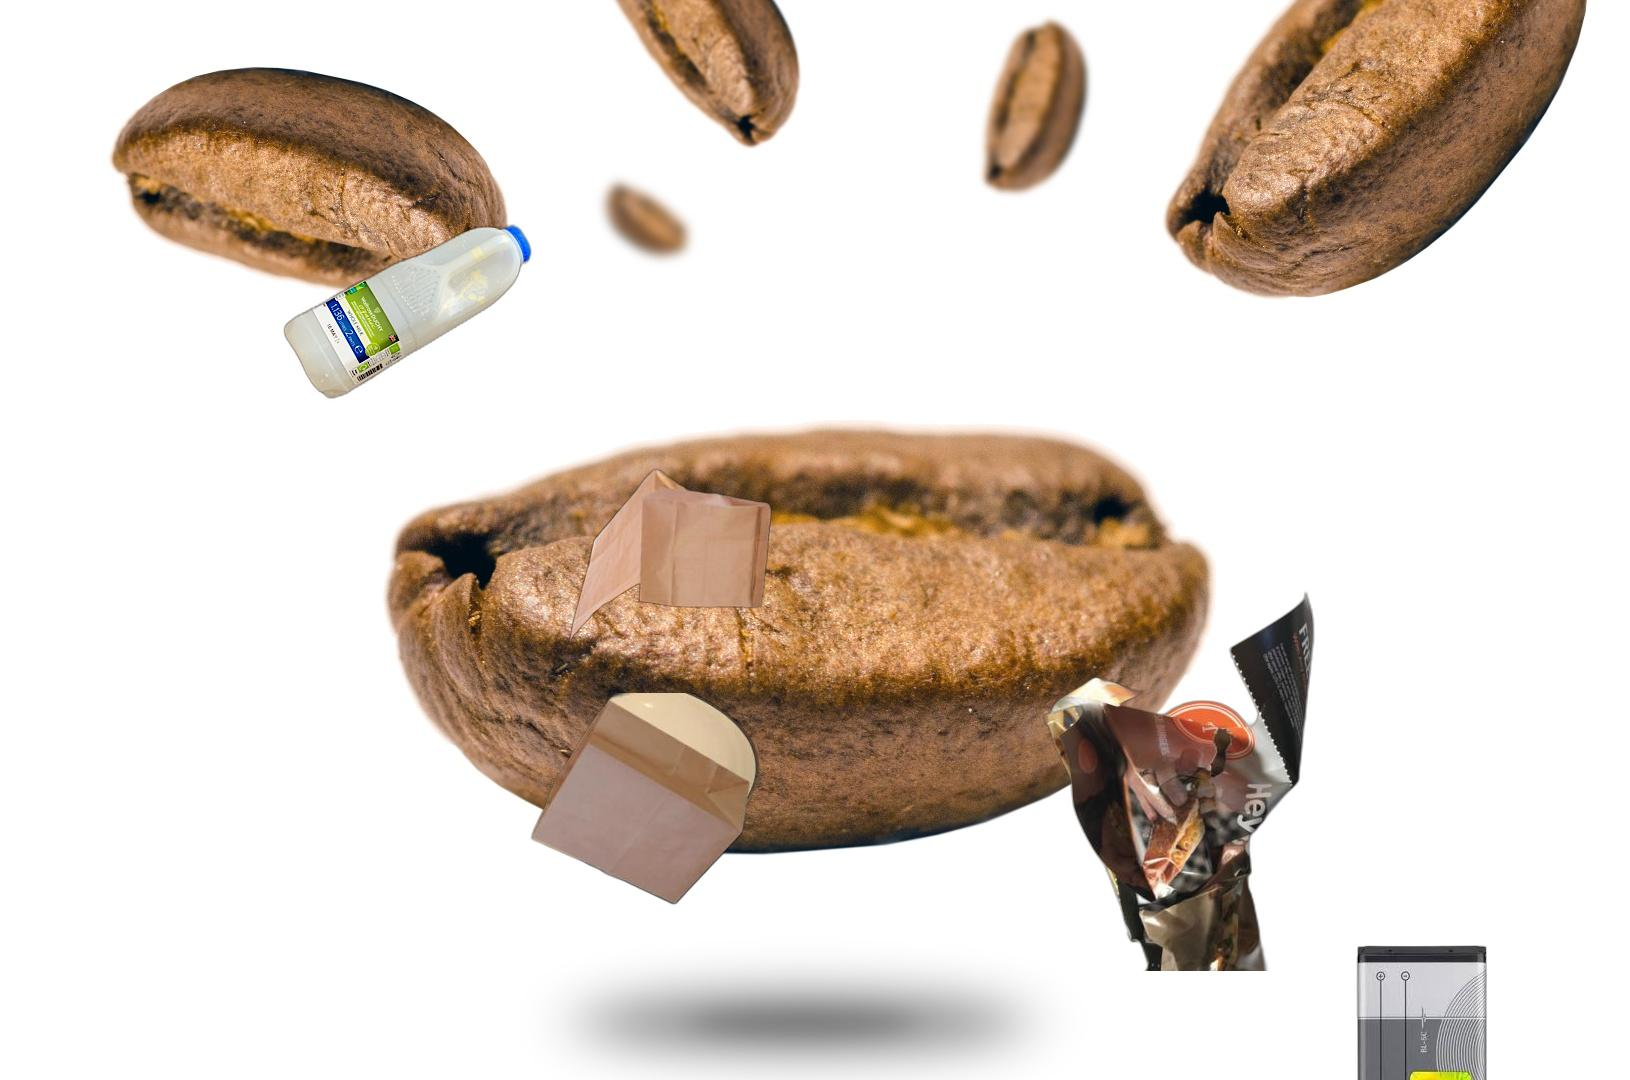battery: (1354, 943, 1489, 1080)
paper: (1040, 589, 1318, 972)
paper-bag: (529, 693, 763, 906), (567, 466, 775, 674)
plastic-bottles: (279, 221, 535, 404)
